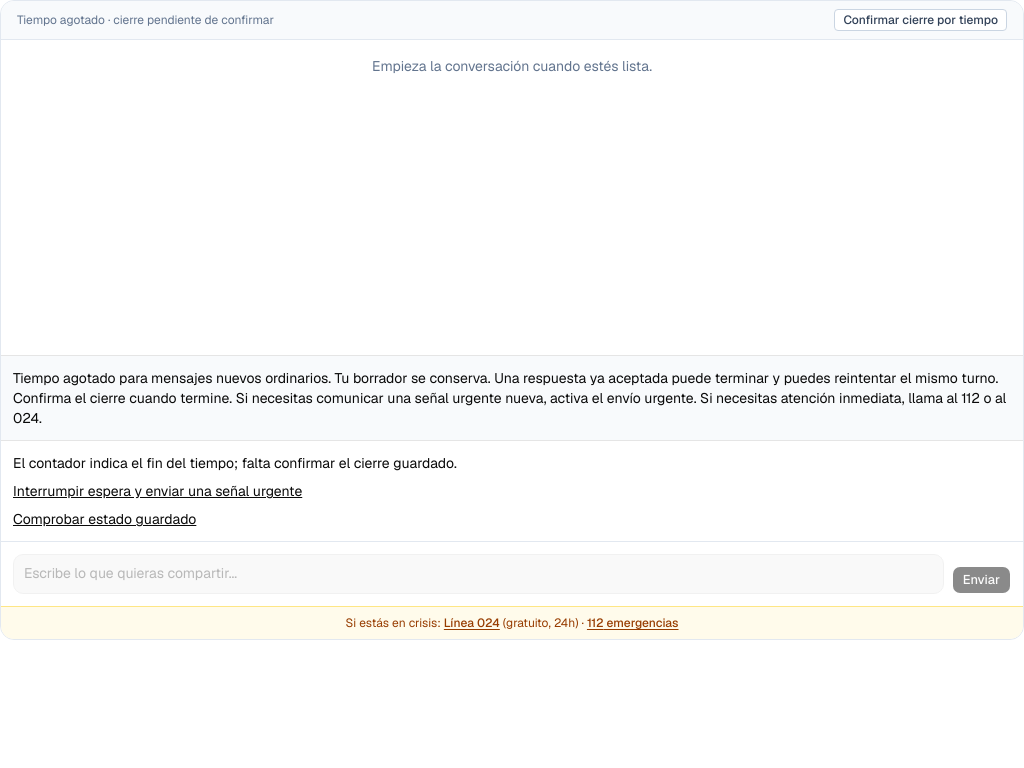
Test: does not claim closure on an action failure and offers another attempt
The image size is (1024, 768).
Click the button "Confirmar cierre por tiempo": [921, 20] box [834,9,1007,31]
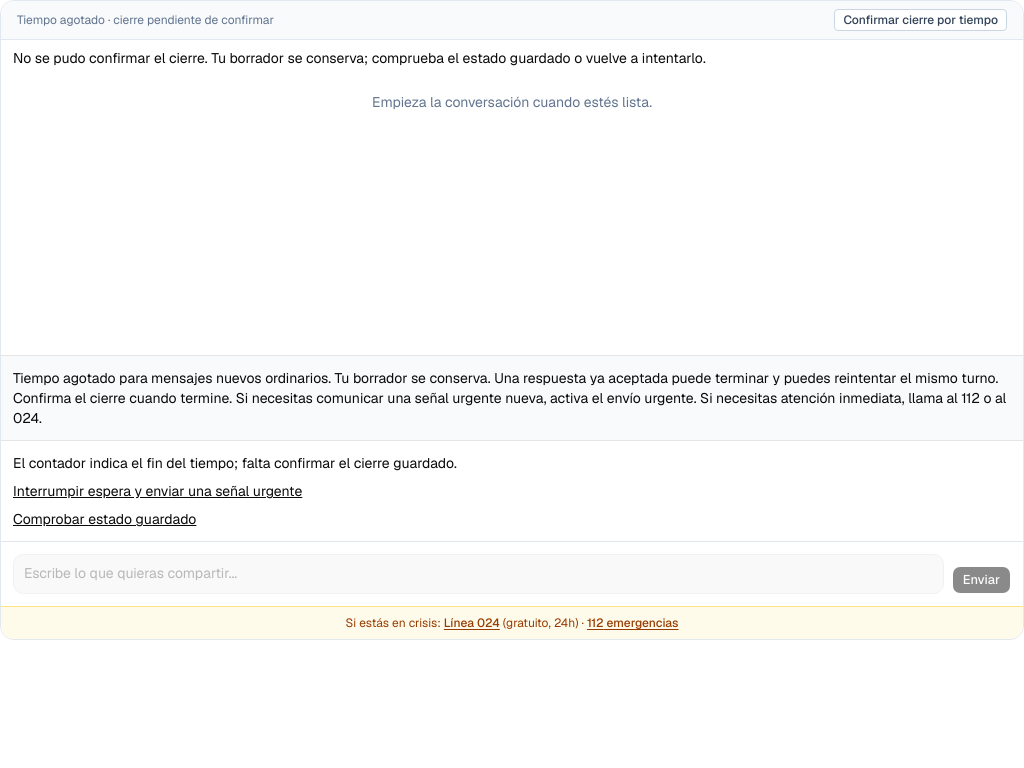
Check: the text "No se pudo confirmar el cierre" is shown, box [13,49,706,67]
